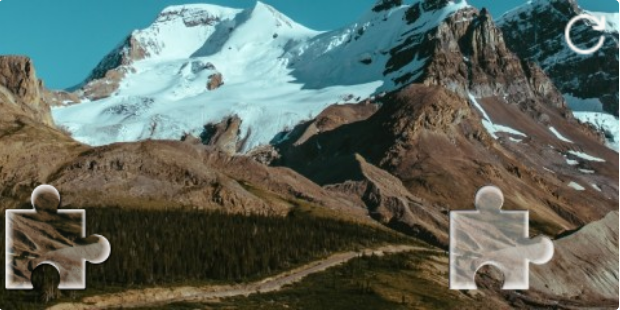target: (449, 185, 555, 289)
